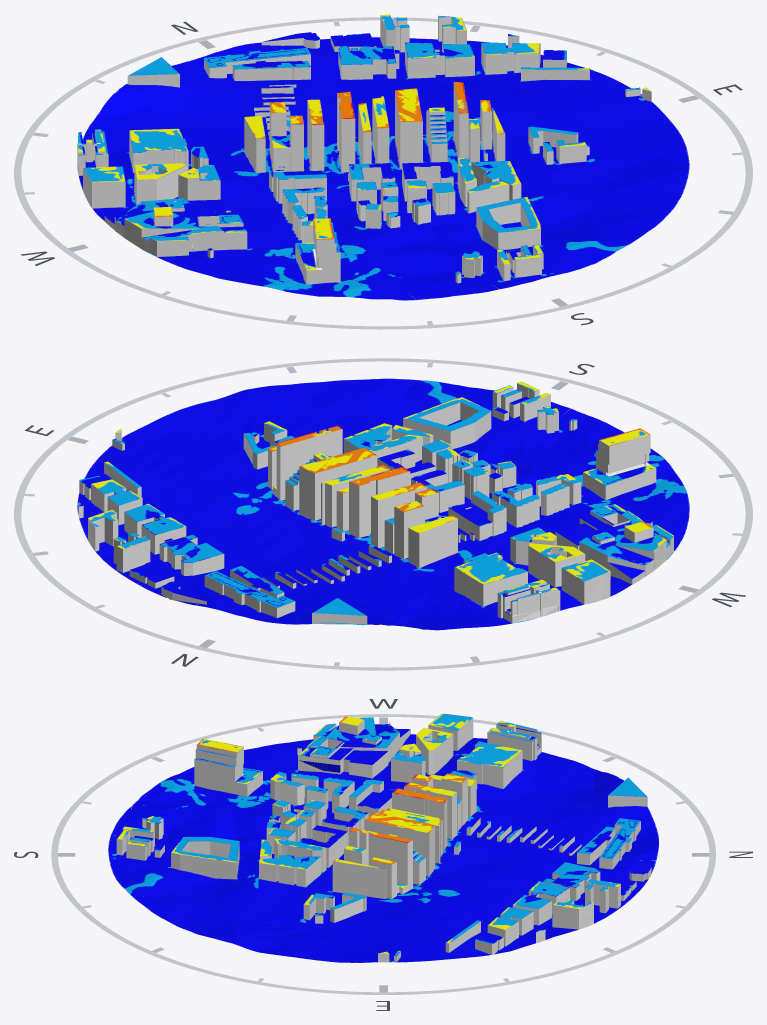
3 views of the same model, one above another, from view 1: azimuth 30°, elevation 25°; view 2: azimuth 150°, elevation 25°; view 3: azimuth 270°, elevation 25° (orthographic). The views are drawn at different scales.
Visible parts, largest first — view 1: mesh0.002, ring, marks; view 2: mesh0.002, ring, marks; view 3: mesh0.002, ring, marks.
Boxes of the visible parts, <box> form: mesh0.002: <box>77,14,689,300</box>; ring: <box>14,17,752,329</box>; marks: <box>24,22,742,325</box>; mesh0.002: <box>77,378,689,630</box>; ring: <box>14,358,752,670</box>; marks: <box>24,363,742,666</box>; mesh0.002: <box>108,713,658,962</box>; ring: <box>51,714,715,994</box>; marks: <box>58,717,709,992</box>.
Bounding box in the file's own units: 89.9 × 7.11 × 90.
22 materials, 1 textured.
